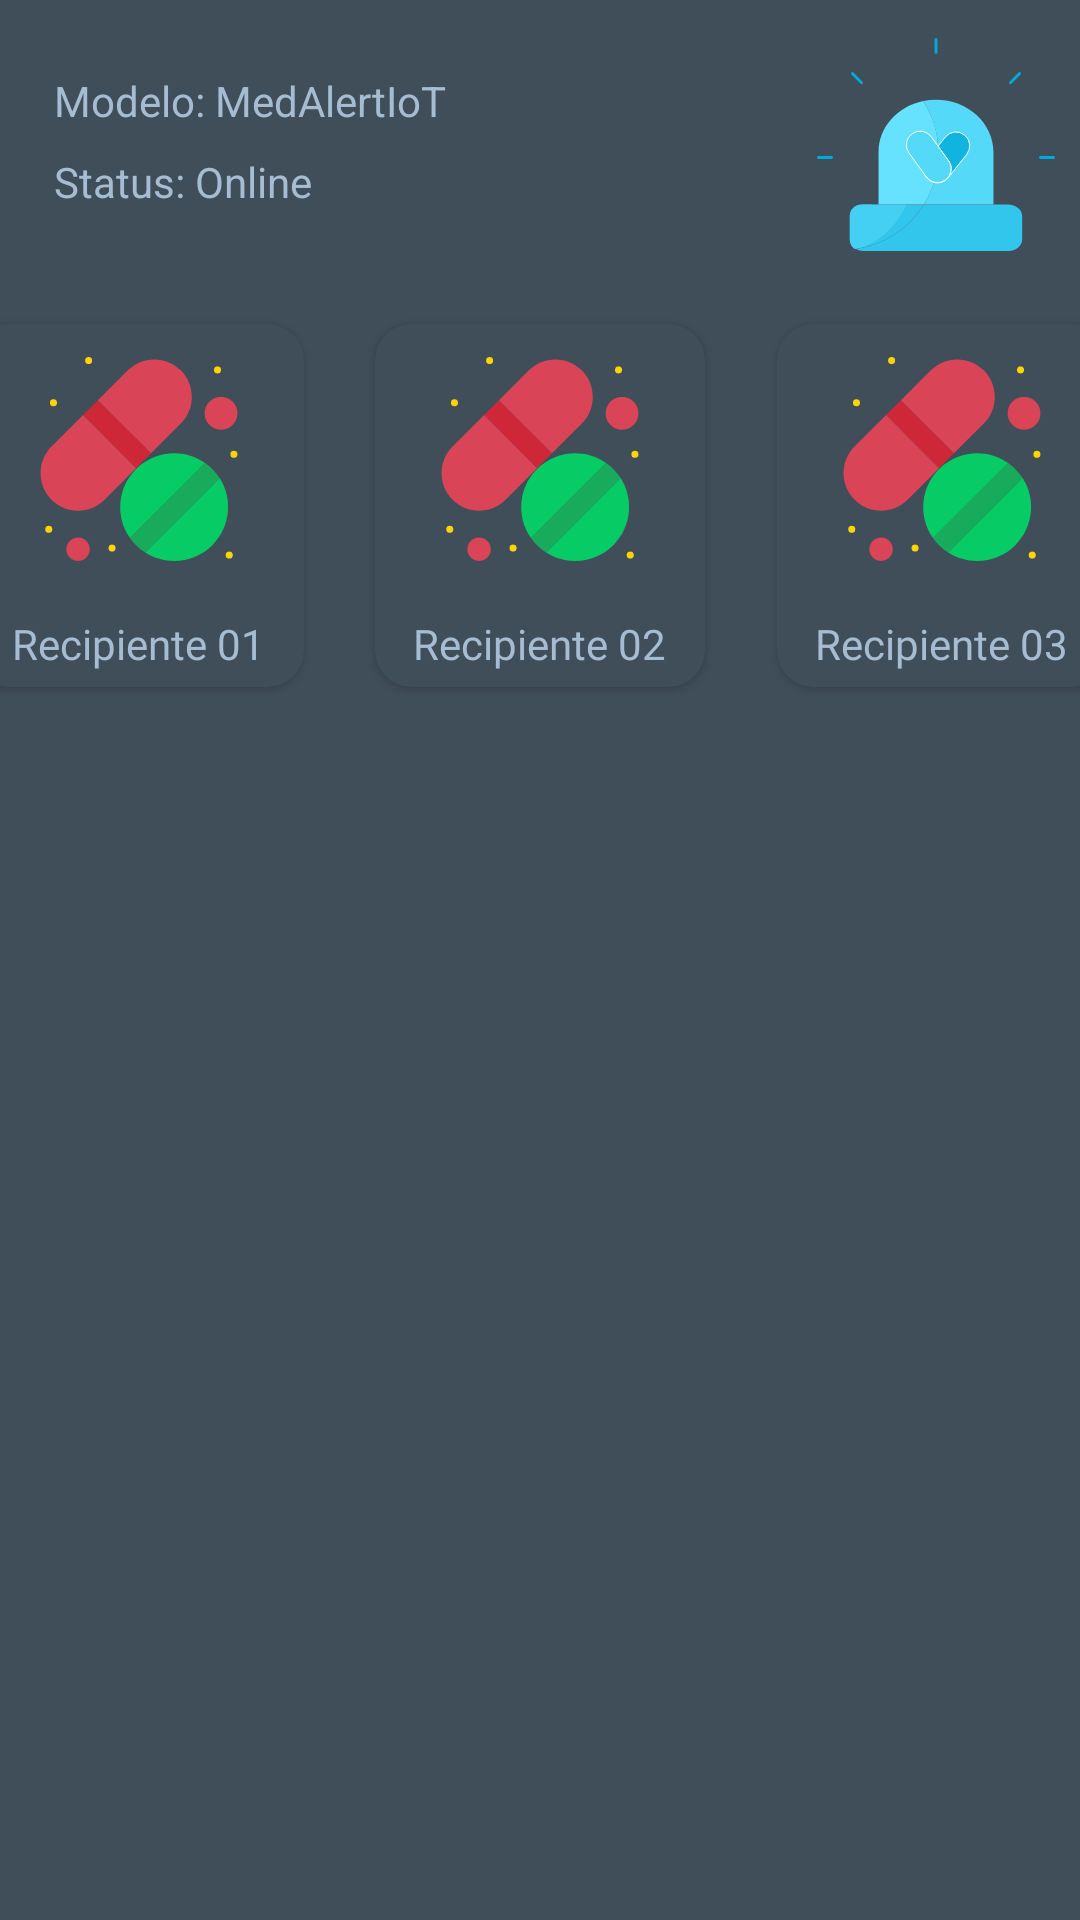

Where icons sit on this 1080x1920 app screen, as bbox=(x1, y1, x2, y2):
medalert simbolo: bbox=(817, 38, 1055, 251)
medicamentos: bbox=(40, 357, 238, 561), bbox=(441, 357, 639, 561), bbox=(843, 357, 1041, 561)
